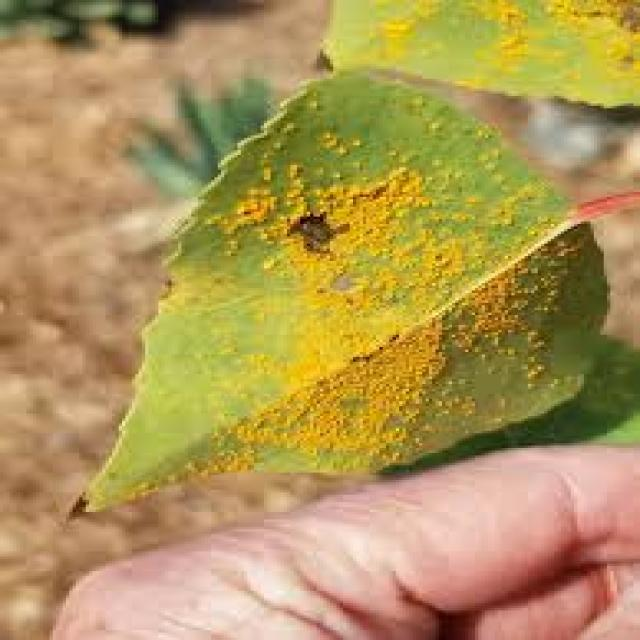leaf_rust: (86, 0, 637, 507)
